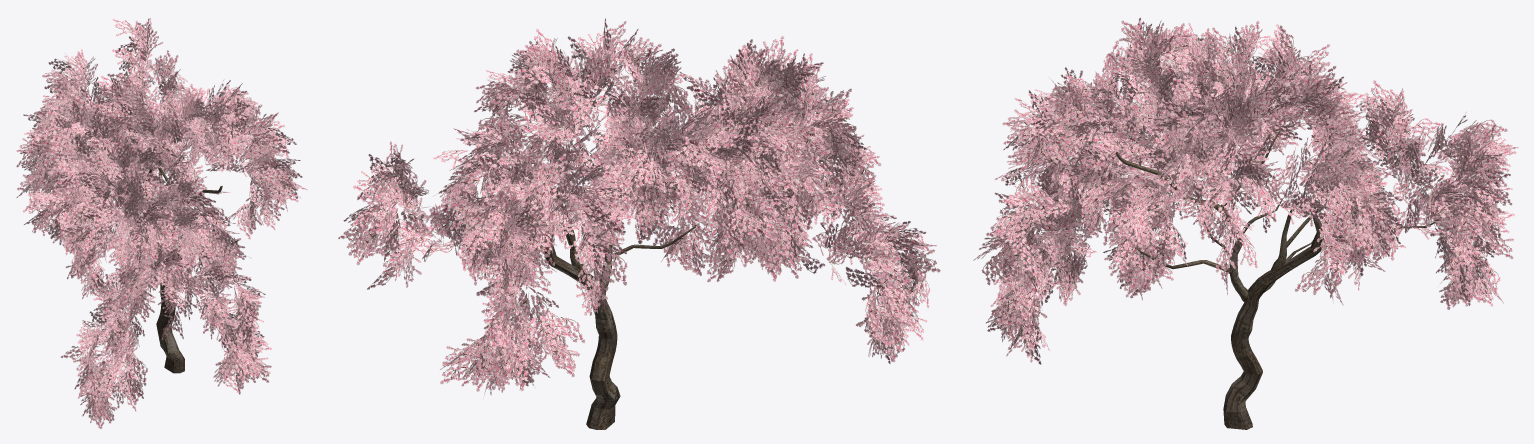
The model's file is tree.gltf.
The picture shows the model from 3 angles, left to right: view 1: azimuth 30°, elevation 25°; view 2: azimuth 150°, elevation 25°; view 3: azimuth 270°, elevation 25°; orthographic projection. The views are drawn at different scales.
Visible parts, largest first — view 1: mesh_sakura, mesh_tree; view 2: mesh_sakura, mesh_tree; view 3: mesh_sakura, mesh_tree.
Boxes of the visible parts, x1=… form: mesh_sakura: x1=16, y1=17, x2=307, y2=428; mesh_tree: x1=130, y1=145, x2=238, y2=373; mesh_sakura: x1=338, y1=18, x2=940, y2=397; mesh_tree: x1=459, y1=88, x2=695, y2=429; mesh_sakura: x1=973, y1=17, x2=1518, y2=364; mesh_tree: x1=1115, y1=128, x2=1438, y2=429.
Bounding box in the file's own units: 106 × 103 × 138.
2 materials, 2 textured.
